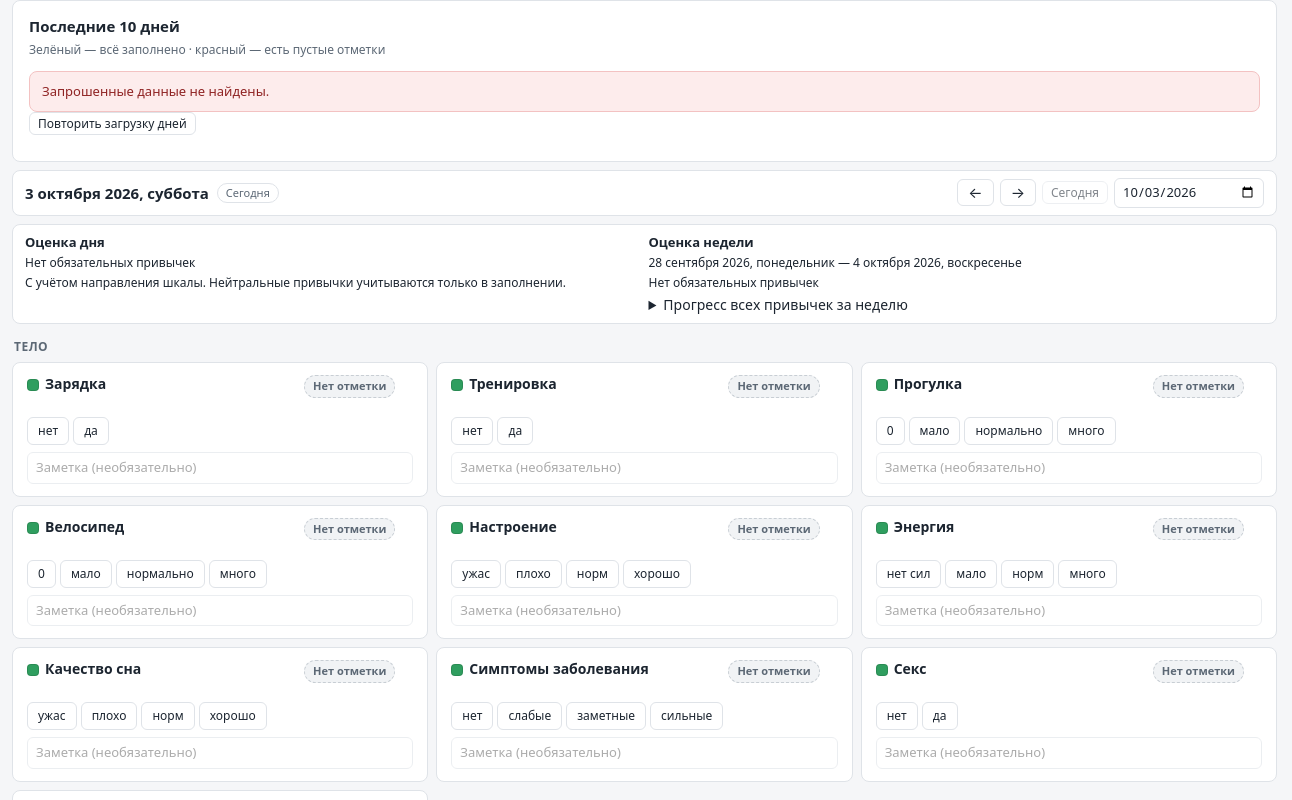
it: CheckInPage — the day’s habits › autosaves a chosen value
The image size is (1292, 800).
Expected: the text "Прогулка" is shown, top-left (894, 374), bottom-right (962, 393)
Click the button "хорошо" below "Настроение" at (657, 574), box top-left (623, 560), bottom-right (691, 588)
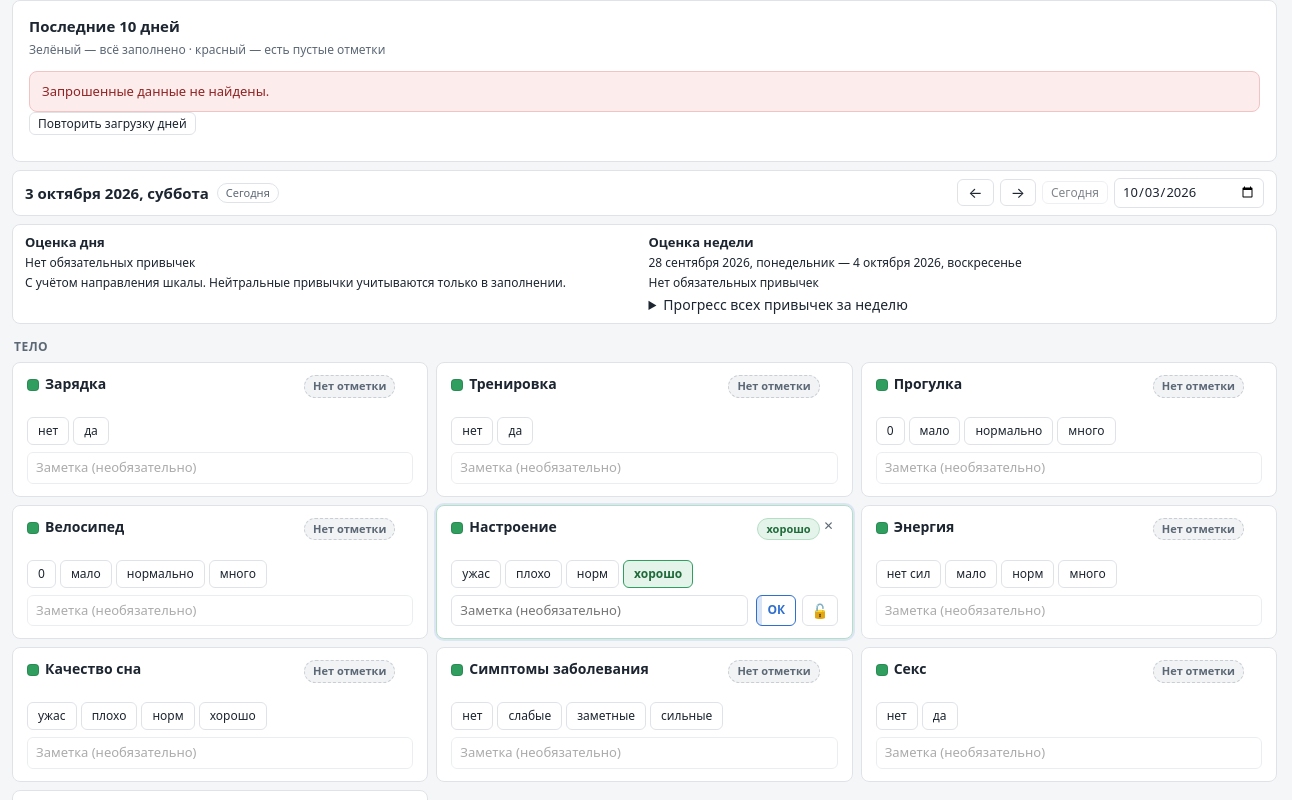
Expected: the message "хорошо" is shown, top-left (758, 518), bottom-right (820, 540)
